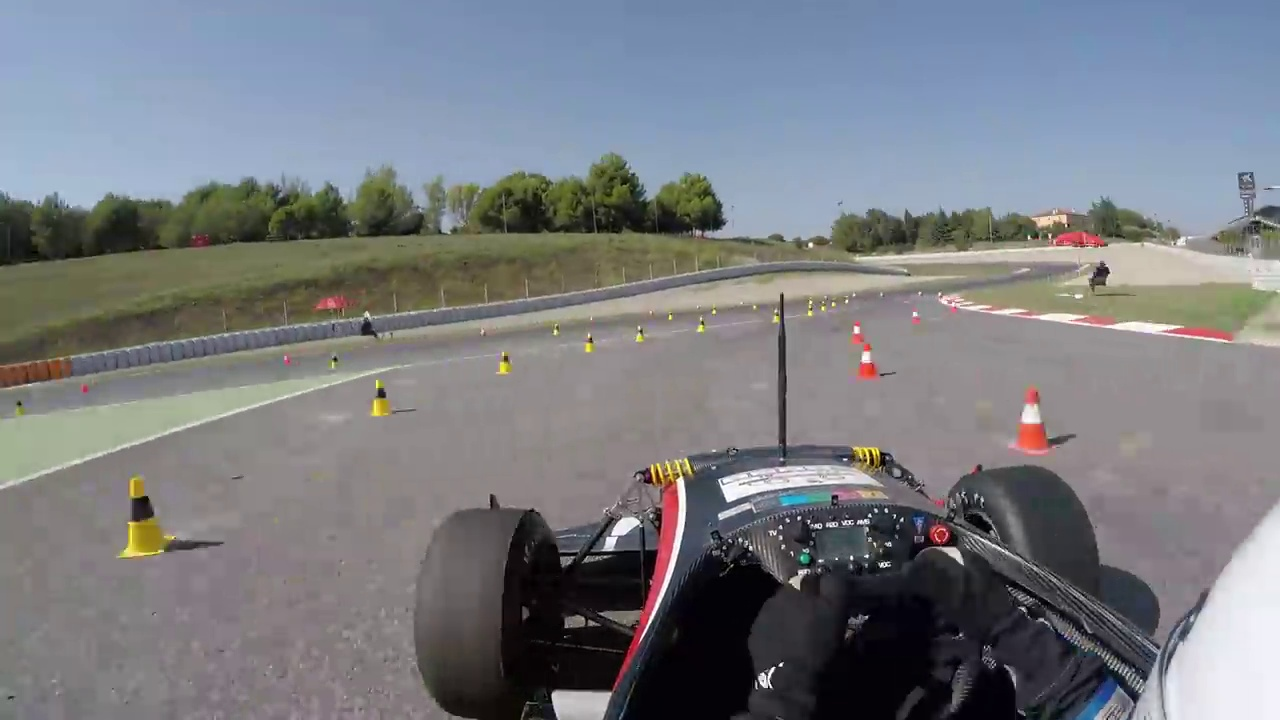Cone: (122, 475, 173, 563), (1008, 385, 1057, 454), (370, 376, 394, 420), (857, 339, 881, 377)
